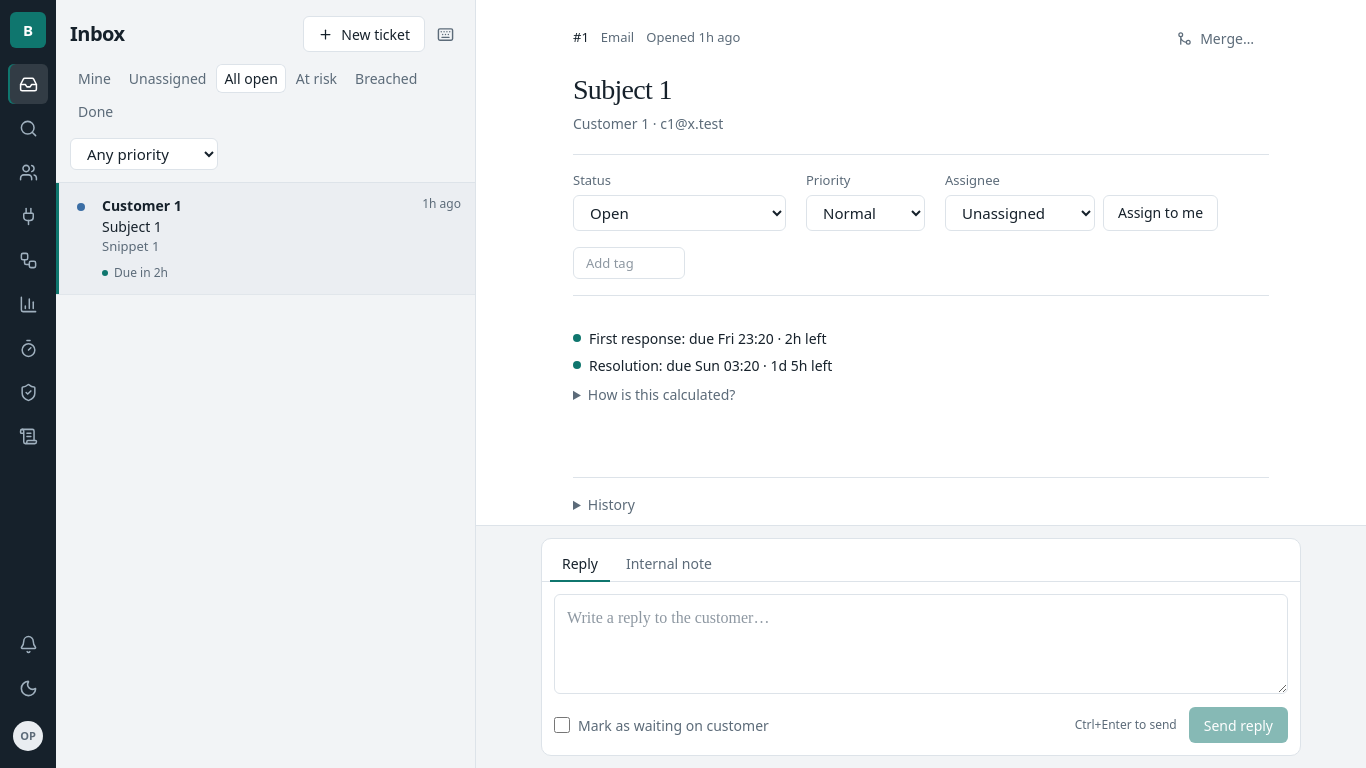
Test: ticket panel › shows each deadline and expands into the plain-language explanation
Expected: the list item "First response: due Fri 23:20 · 2h left" is shown, [573,328,826,348]
Click the heading "How is this calculated?" at x=662, y=394, box [588,384,735,404]
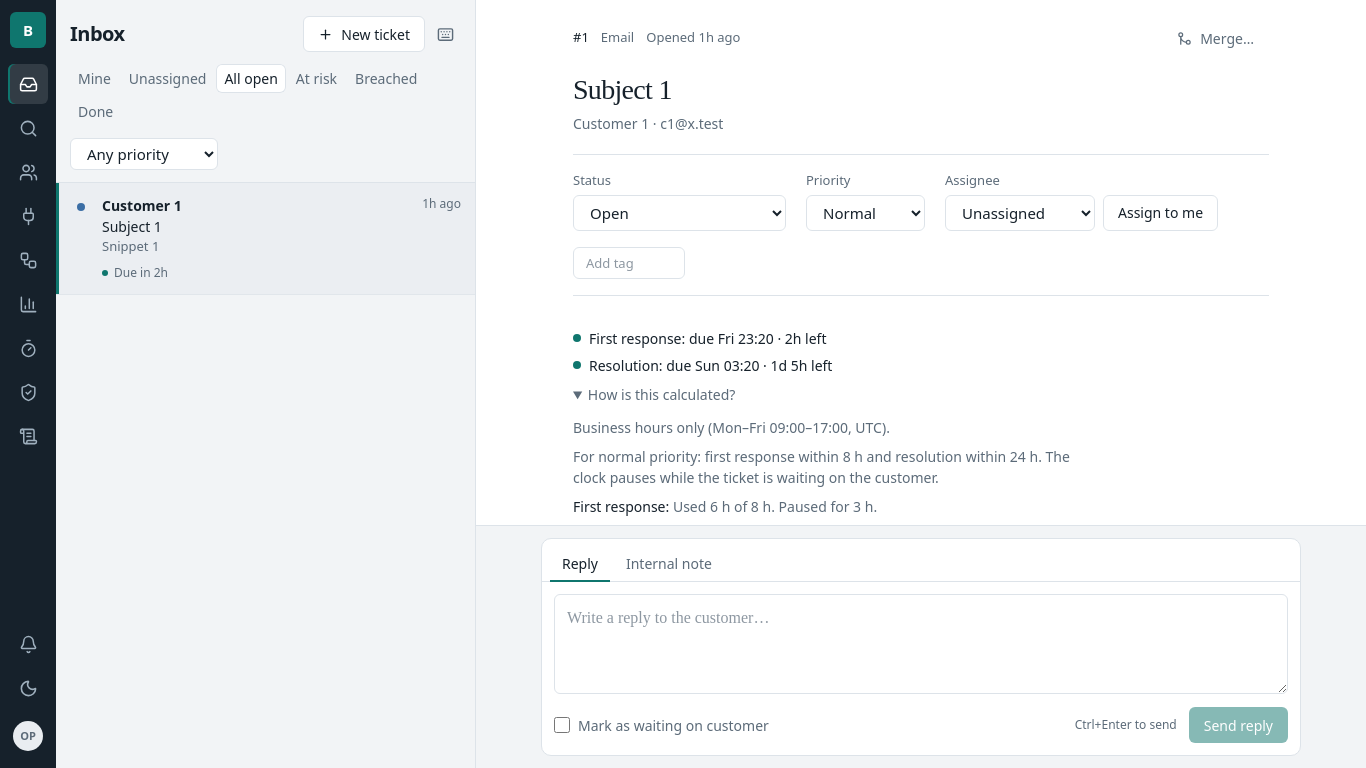
Result: the text "Business hours only (Mon–Fri 09:00–17:00, UTC)." is shown at [573,418,890,436]
Result: the text "First response: Used 6 h of 8 h. Paused for 3 h." is shown at [573,496,877,516]
